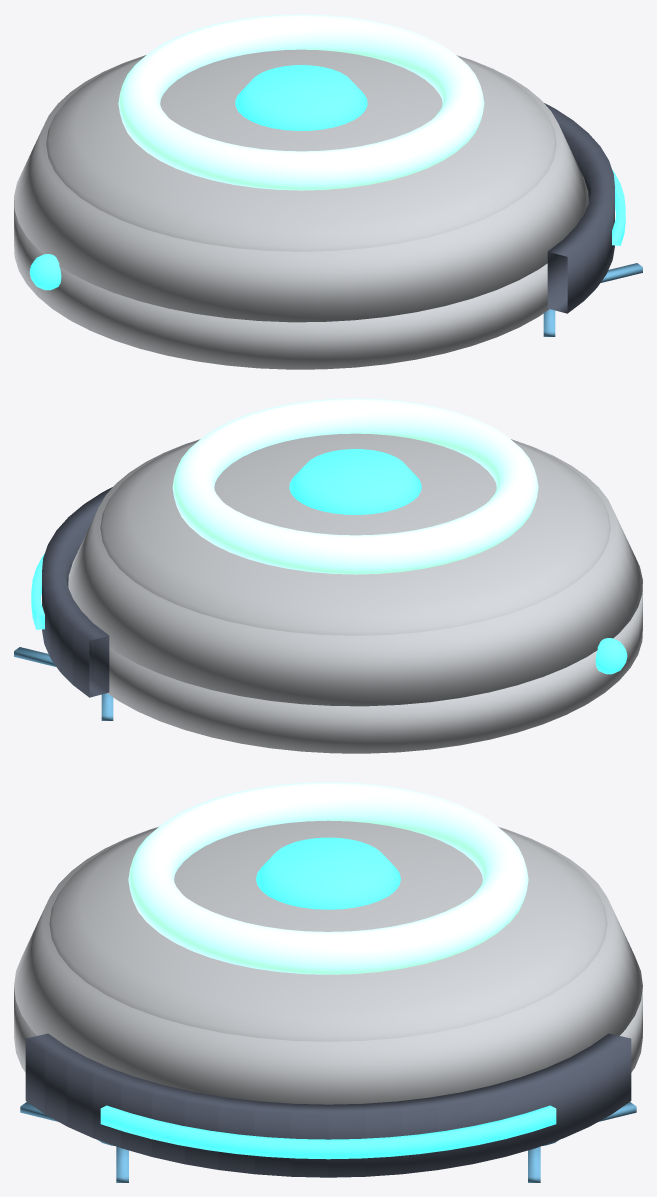
The model's file is auto_cleaner_bot.glb.
The picture shows the model from 3 angles, top to bottom: view 1: azimuth 30°, elevation 25°; view 2: azimuth 150°, elevation 25°; view 3: azimuth 270°, elevation 25°; orthographic projection. The views are drawn at different scales.
Visible parts, largest first — view 1: Body, Halo, Bumper, Core, Light_Tail, Brush_R, Sensor; view 2: Body, Halo, Bumper, Core, Light_Tail, Brush_L, Sensor; view 3: Body, Bumper, Halo, Sensor, Core, Brush_L, Brush_R.
Part boxes in pixels (bbox=[...]): Body: bbox=[14, 49, 588, 369]; Halo: bbox=[118, 14, 484, 190]; Bumper: bbox=[544, 103, 614, 313]; Core: bbox=[235, 65, 367, 130]; Light_Tail: bbox=[29, 254, 61, 290]; Brush_R: bbox=[543, 263, 642, 336]; Sensor: bbox=[612, 169, 625, 245]; Body: bbox=[68, 433, 642, 753]; Halo: bbox=[172, 398, 538, 574]; Bumper: bbox=[42, 487, 112, 697]; Core: bbox=[289, 449, 421, 514]; Light_Tail: bbox=[595, 638, 627, 674]; Brush_L: bbox=[14, 647, 113, 720]; Sensor: bbox=[31, 553, 44, 629]; Body: bbox=[14, 820, 642, 1104]; Bumper: bbox=[25, 1033, 631, 1177]; Halo: bbox=[128, 782, 528, 974]; Sensor: bbox=[100, 1105, 556, 1159]; Core: bbox=[256, 837, 400, 909]; Brush_L: bbox=[528, 1102, 636, 1182]; Brush_R: bbox=[20, 1102, 128, 1182].
Bounding box in the file's own units: 1.22 × 0.373 × 1.1.
